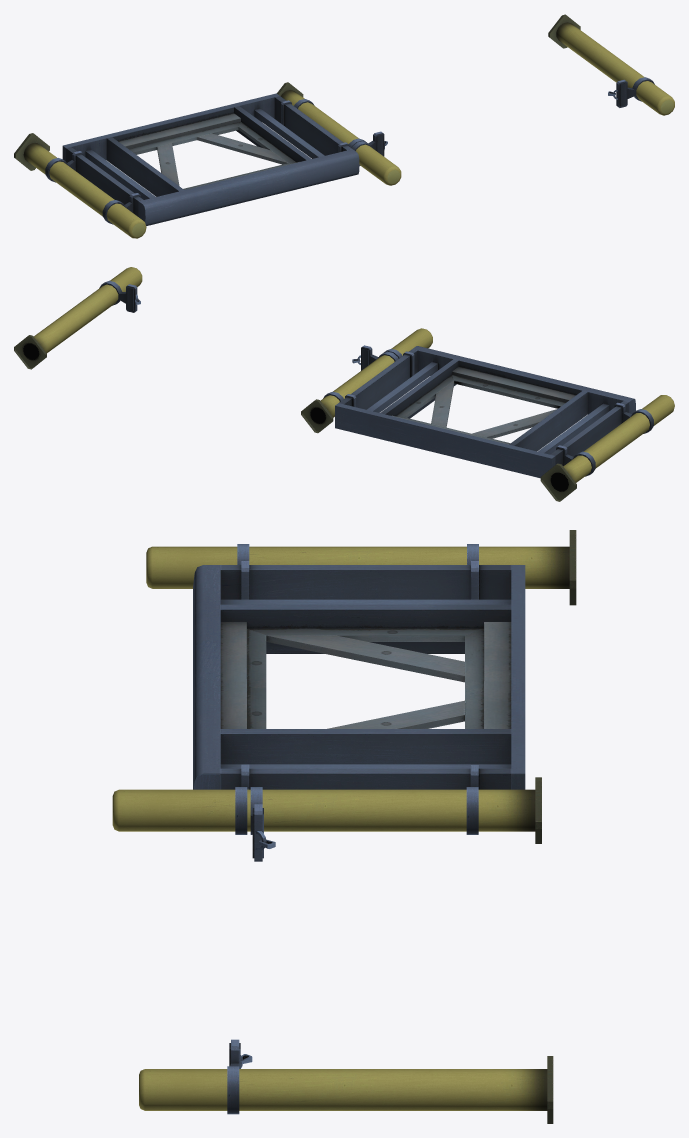
File: nt_2020_street_gate_03_LOD0.obj
The picture shows the model from 3 angles, top to bottom: view 1: azimuth 30°, elevation 25°; view 2: azimuth 150°, elevation 25°; view 3: azimuth 270°, elevation 25°; orthographic projection. The views are drawn at different scales.
Parts seen in each view (by area): view 1: mtl_nt_2020_street_gate_01; view 2: mtl_nt_2020_street_gate_01; view 3: mtl_nt_2020_street_gate_01.
Part boxes in pixels (left/top/right/bottom): mtl_nt_2020_street_gate_01: left=14, top=14, right=674, bottom=238; mtl_nt_2020_street_gate_01: left=14, top=267, right=674, bottom=501; mtl_nt_2020_street_gate_01: left=112, top=530, right=576, bottom=1123.
Size of the model in its own units: 319 by 20.8 by 115.
